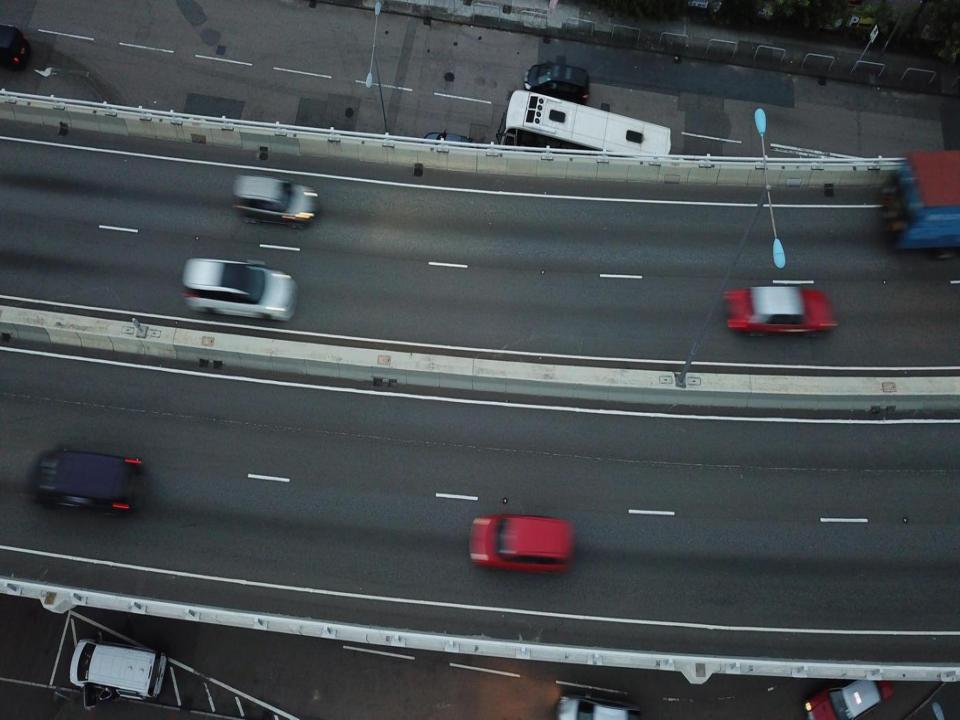bus: (496, 91, 685, 171)
car: (24, 440, 158, 522), (180, 257, 298, 326), (722, 278, 842, 336), (460, 512, 576, 571), (66, 636, 164, 702), (227, 172, 324, 235), (805, 674, 892, 718), (519, 57, 593, 92)
truck: (882, 121, 960, 260)
